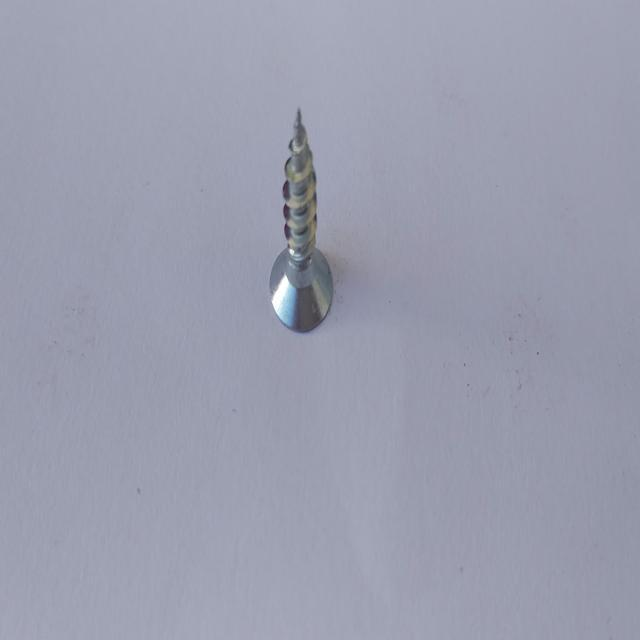Screw: (270, 107, 333, 330)
